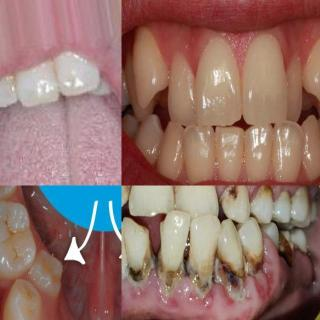Gum Swelling: (122, 231, 279, 319)
calculus: (130, 244, 156, 294), (211, 252, 238, 300), (153, 259, 182, 303), (184, 257, 208, 299), (240, 245, 266, 283), (227, 186, 251, 206), (121, 241, 128, 299), (256, 185, 276, 203)
cavities: (278, 236, 296, 270)
maligned: (157, 200, 195, 286), (134, 25, 172, 105), (183, 210, 220, 286), (31, 248, 80, 299), (64, 49, 110, 103), (271, 119, 307, 179), (180, 125, 215, 185), (278, 53, 308, 119), (127, 186, 170, 222), (173, 186, 217, 216), (159, 122, 183, 174), (305, 30, 320, 101), (86, 65, 116, 98)
